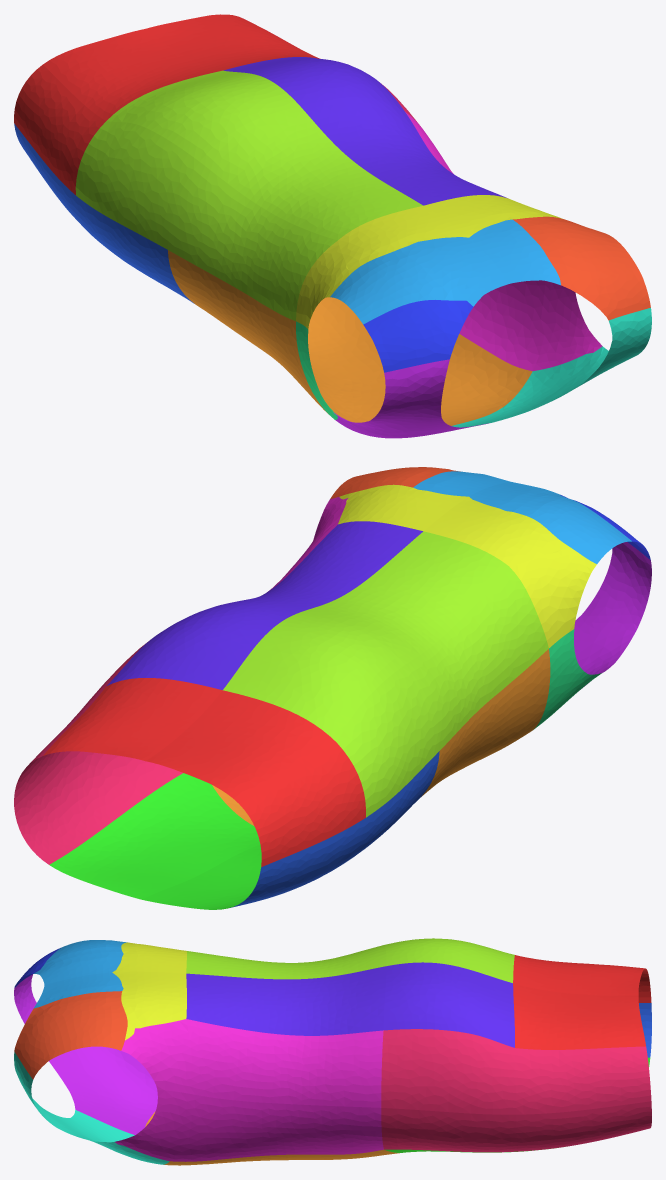
The model's file is suitdress_garmentB.obj.
The picture shows the model from 3 angles, top to bottom: view 1: azimuth 30°, elevation 25°; view 2: azimuth 150°, elevation 25°; view 3: azimuth 270°, elevation 25°; orthographic projection. The views are drawn at different scales.
Parts seen in each view (by area): view 1: suitdress_garmentB; view 2: suitdress_garmentB; view 3: suitdress_garmentB.
Boxes of the visible parts, box(x1,y1,x2,y2) form: suitdress_garmentB: box(14, 14, 651, 438); suitdress_garmentB: box(14, 467, 651, 909); suitdress_garmentB: box(14, 938, 651, 1165).
Size of the model in its own units: 429 by 321 by 993.
